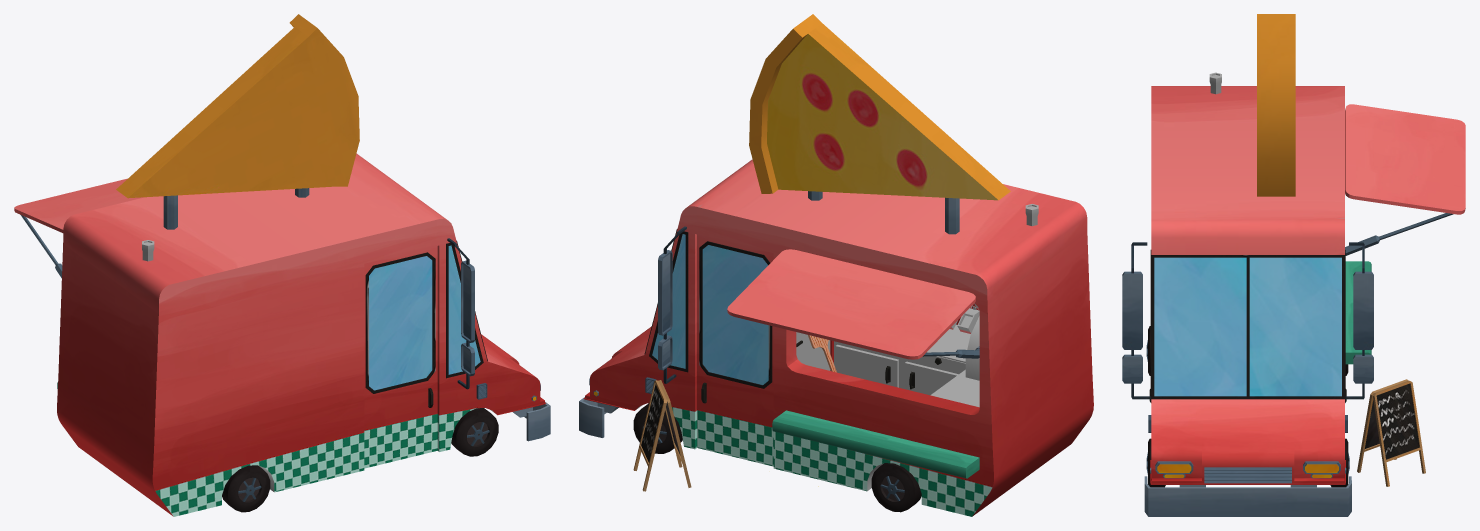
Rendered from FoodTruck.fbx.
3 views of the same model, side by side, from view 1: azimuth 30°, elevation 25°; view 2: azimuth 150°, elevation 25°; view 3: azimuth 270°, elevation 25° (orthographic). The views are drawn at different scales.
Parts seen in each view (by area): view 1: Cylinder.001; view 2: Cylinder.001; view 3: Cylinder.001.
Boxes of the visible parts, left/top/right/bottom form: Cylinder.001: left=14, top=14, right=550, bottom=516; Cylinder.001: left=579, top=14, right=1093, bottom=516; Cylinder.001: left=1122, top=14, right=1465, bottom=516.
Bounding box in the file's own units: 634 × 644 × 471.
